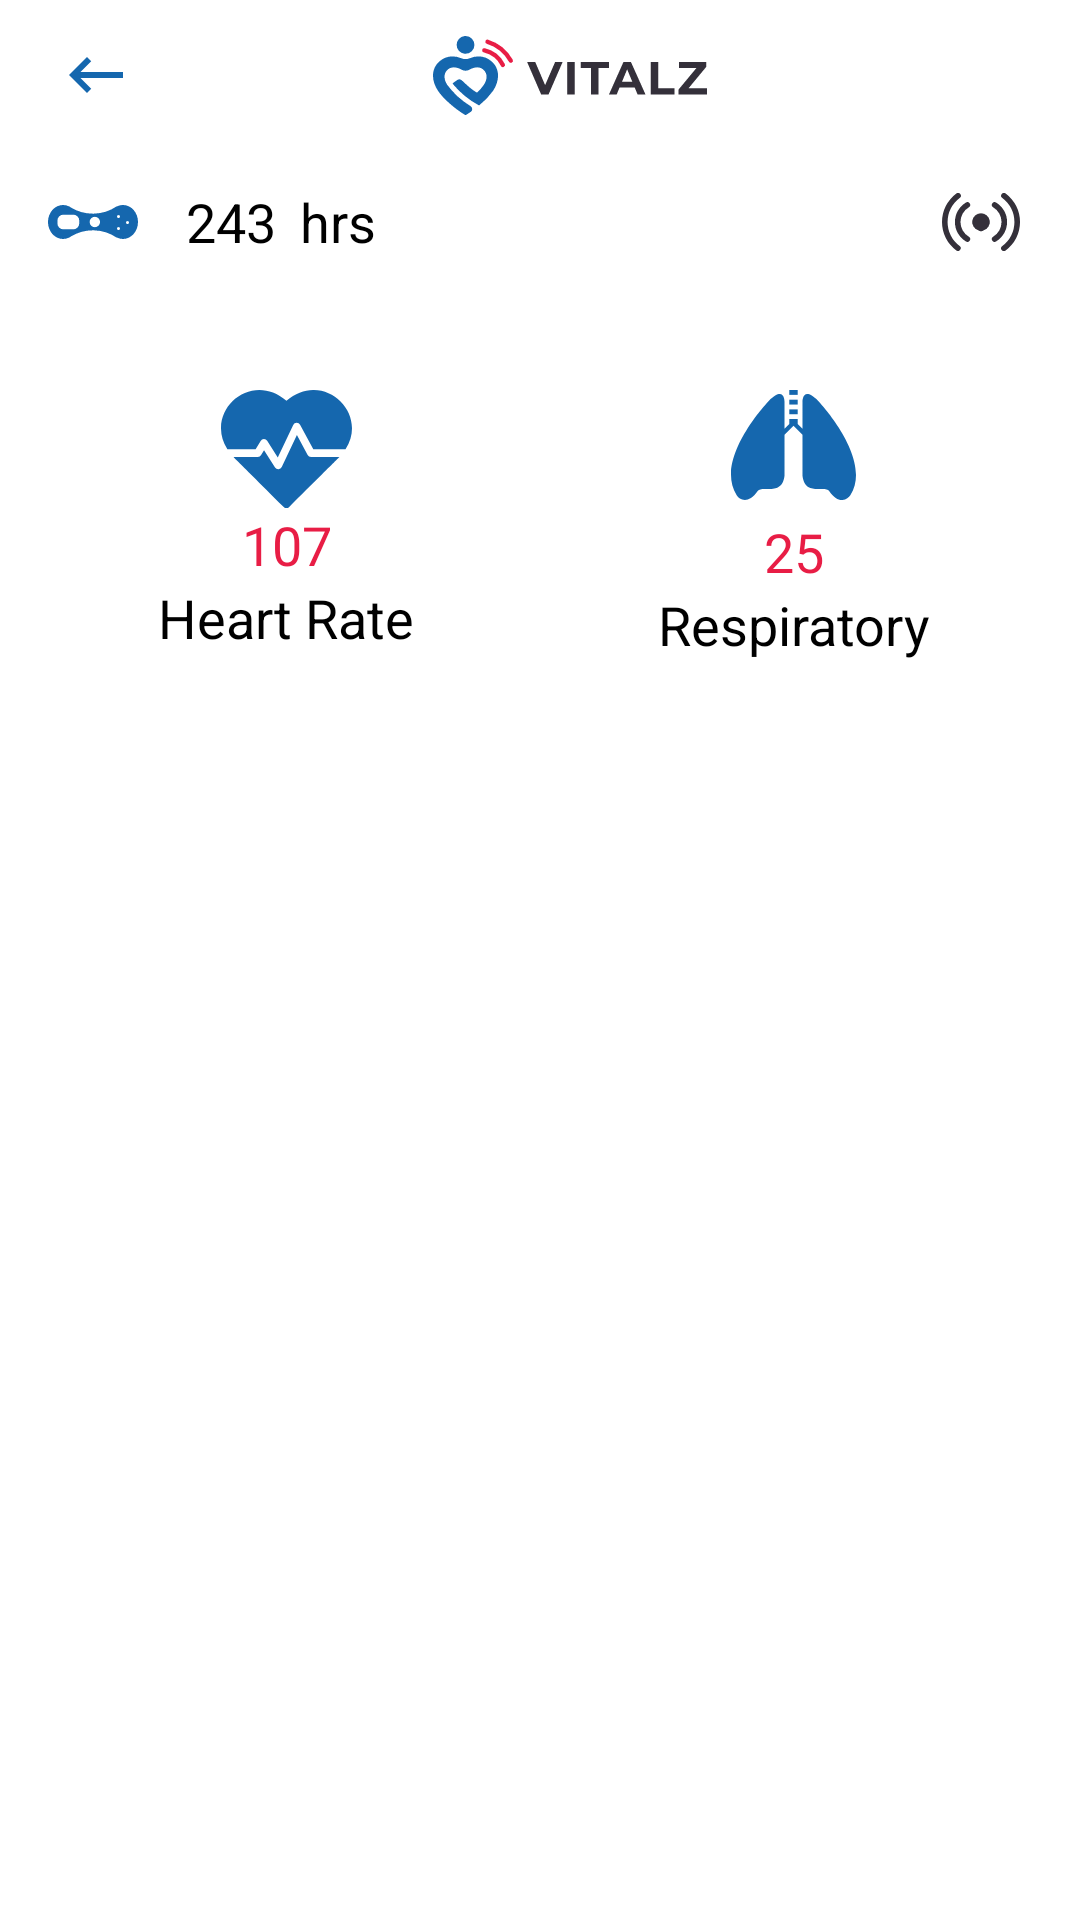

Named icons in this screenshot (1080px x 1920px) and their bounding boxes, bbox=[x1, y1, x2, y2]:
back: bbox=[69, 57, 123, 93]
connectivity: bbox=[942, 193, 1020, 251]
